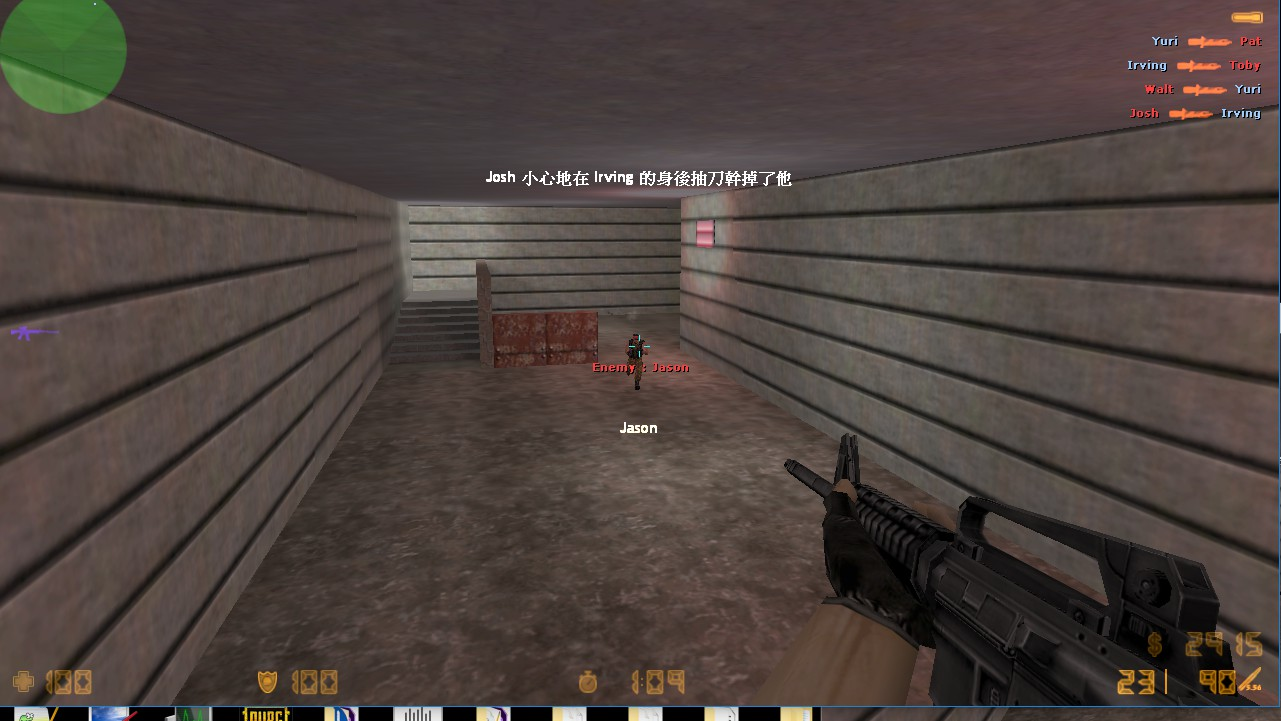person: (623, 331, 648, 395)
